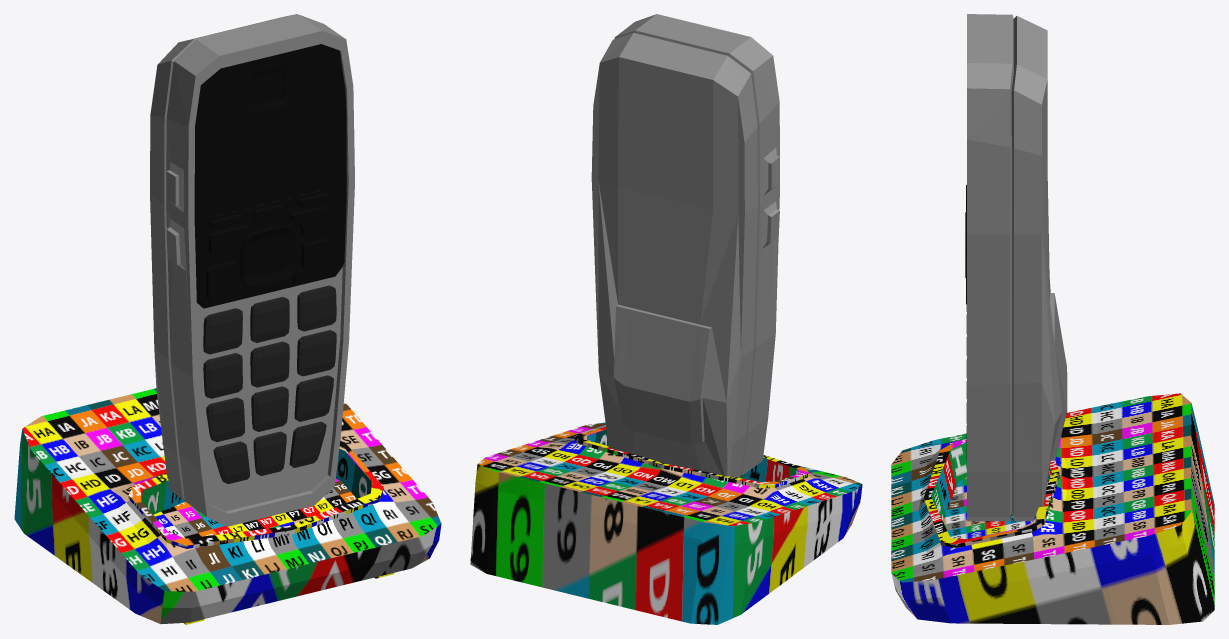
The model's file is portablephone.FBX.
The picture shows the model from 3 angles, left to right: view 1: azimuth 30°, elevation 25°; view 2: azimuth 150°, elevation 25°; view 3: azimuth 270°, elevation 25°; orthographic projection. The views are drawn at different scales.
Visible parts, largest first — view 1: Box003, phone, top part of phone, buttons, Box009, ChamferBox029, ChamferBox032, ChamferBox034, ChamferBox033, ChamferBox035, ChamferBox036, ChamferBox038, ChamferBox037 (+8 smaller); view 2: phone, Box003; view 3: Box003, phone.
Boxes of the visible parts, box(x1,y1,x2,y2) form: Box003: box(14, 388, 441, 624); phone: box(150, 14, 354, 526); top part of phone, buttons: box(194, 44, 346, 308); Box009: box(240, 224, 296, 286); ChamferBox029: box(203, 308, 242, 354); ChamferBox032: box(250, 297, 289, 342); ChamferBox034: box(250, 341, 289, 387); ChamferBox033: box(297, 285, 336, 331); ChamferBox035: box(297, 330, 336, 376); ChamferBox036: box(203, 353, 242, 398); ChamferBox038: box(294, 375, 333, 421); ChamferBox037: box(251, 386, 288, 431); phone: box(591, 14, 779, 477); Box003: box(470, 422, 862, 624); Box003: box(891, 393, 1214, 624); phone: box(967, 14, 1067, 521).
Bounding box in the file's own units: 5.55 × 9.77 × 5.42.
4 materials, 1 textured.
